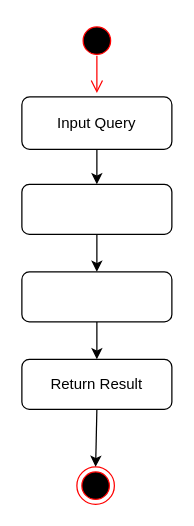
This 194x526 diagram has some shape labels left out. Each missing label, with the box of its shape:
Execute Query: (21, 271, 172, 322)
Procces Query: (21, 183, 172, 234)
